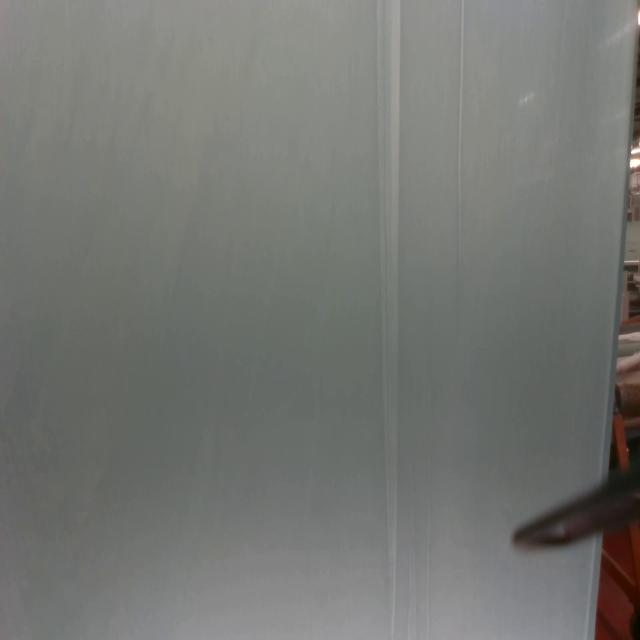crease: (375, 0, 400, 640), (455, 0, 466, 290), (424, 456, 434, 639)
